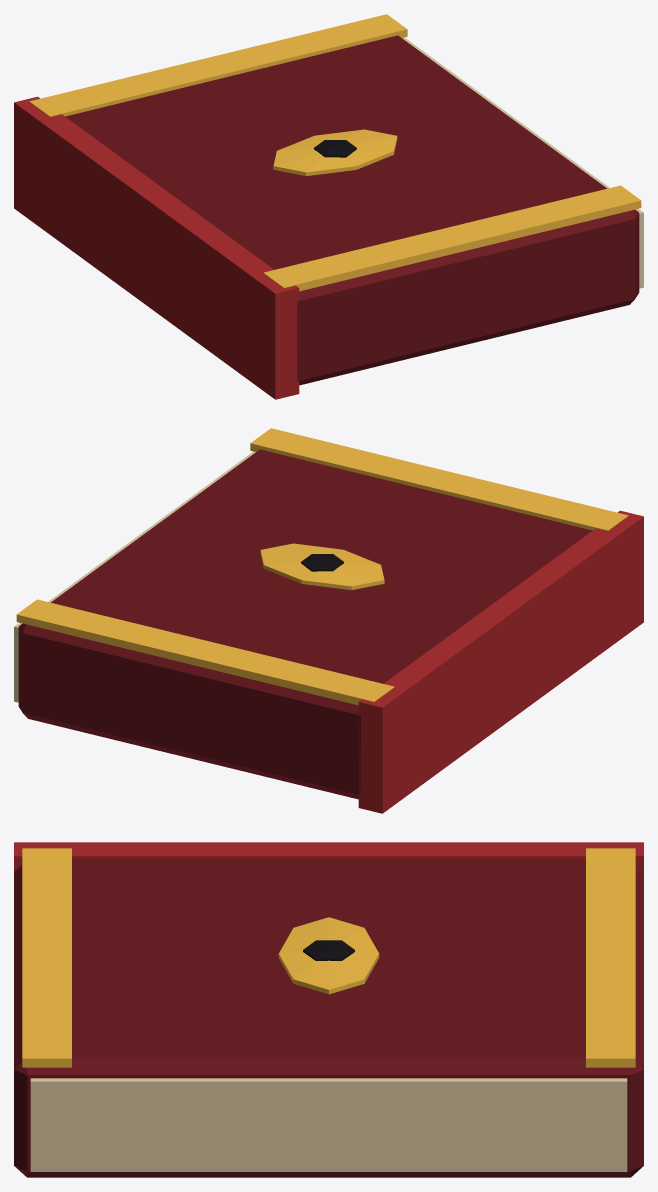
Rendered from scripture.fbx.
3 views of the same model, one above another, from view 1: azimuth 30°, elevation 25°; view 2: azimuth 150°, elevation 25°; view 3: azimuth 270°, elevation 25° (orthographic). The views are drawn at different scales.
Visible parts, largest first — view 1: Book; view 2: Book; view 3: Book.
Part boxes in pixels (bbox=[...]): Book: bbox=[14, 14, 643, 399]; Book: bbox=[14, 428, 643, 813]; Book: bbox=[14, 842, 643, 1177].
Size of the model in its own units: 0.315 by 0.0895 by 0.38.
Materials: 1 (1 with a texture image).
